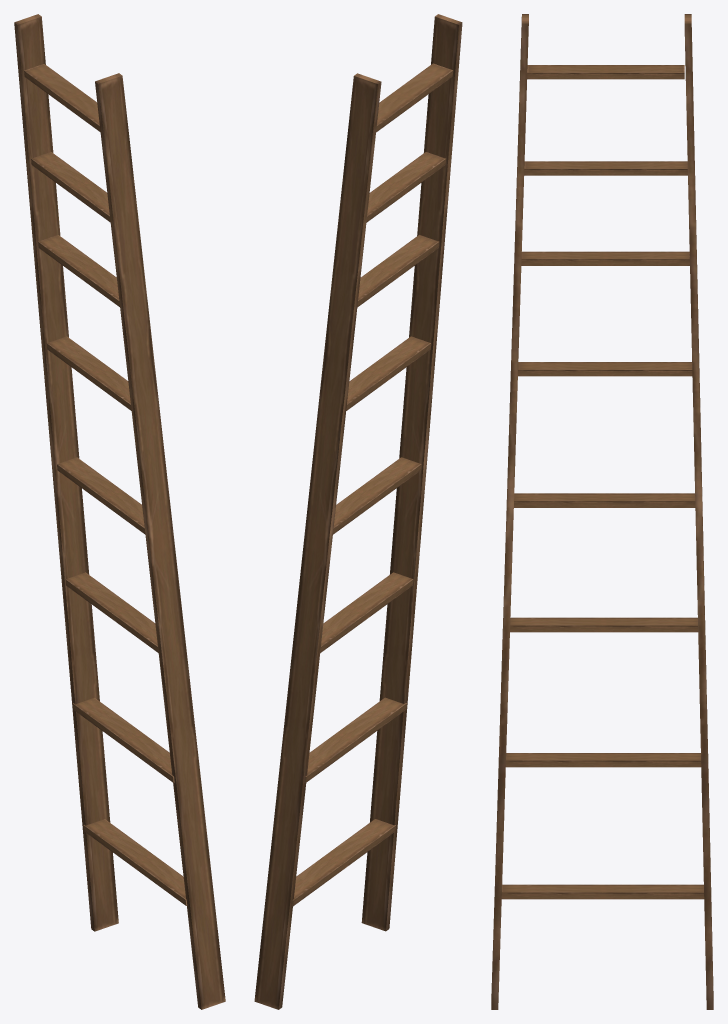
Rendered from stair chest book.fbx.
3 renders of one model, left to right at view 1: azimuth 30°, elevation 25°; view 2: azimuth 150°, elevation 25°; view 3: azimuth 270°, elevation 25°, orthographic.
Parts seen in each view (by area): view 1: polySurface616; view 2: polySurface616; view 3: polySurface616.
Boxes of the visible parts, left/top/right/bottom form: polySurface616: left=14, top=14, right=225, bottom=1009; polySurface616: left=254, top=14, right=462, bottom=1009; polySurface616: left=491, top=14, right=713, bottom=1009.
Size of the model in its own units: 28.16 by 225 by 47.98.
1 material, 1 textured.
